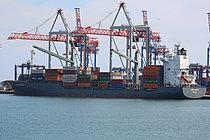Ship: (6, 2, 210, 103)
